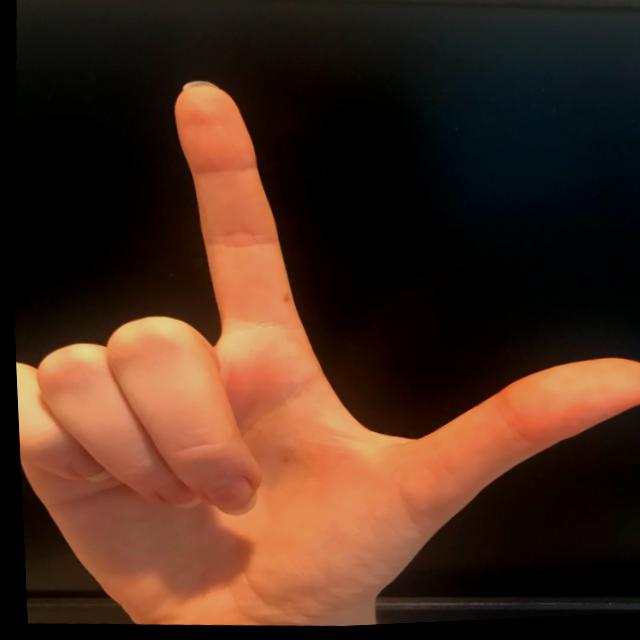L: (2, 45, 640, 639)
